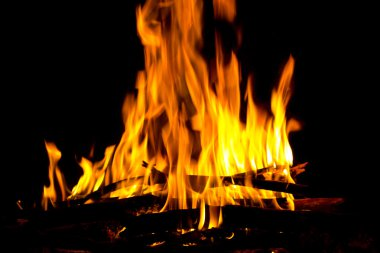fire: (124, 8, 280, 208)
